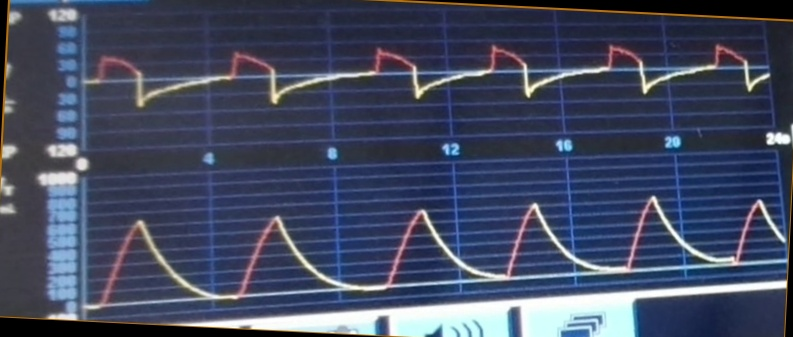Normal Flow: (87, 35, 769, 130)
Normal Volume: (89, 189, 786, 302)
